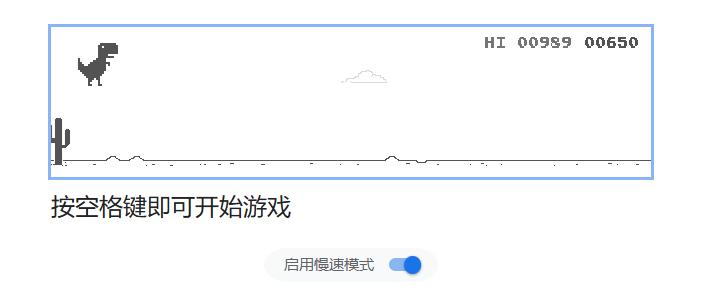cactus: (50, 117, 71, 168)
dino: (75, 41, 118, 87)
